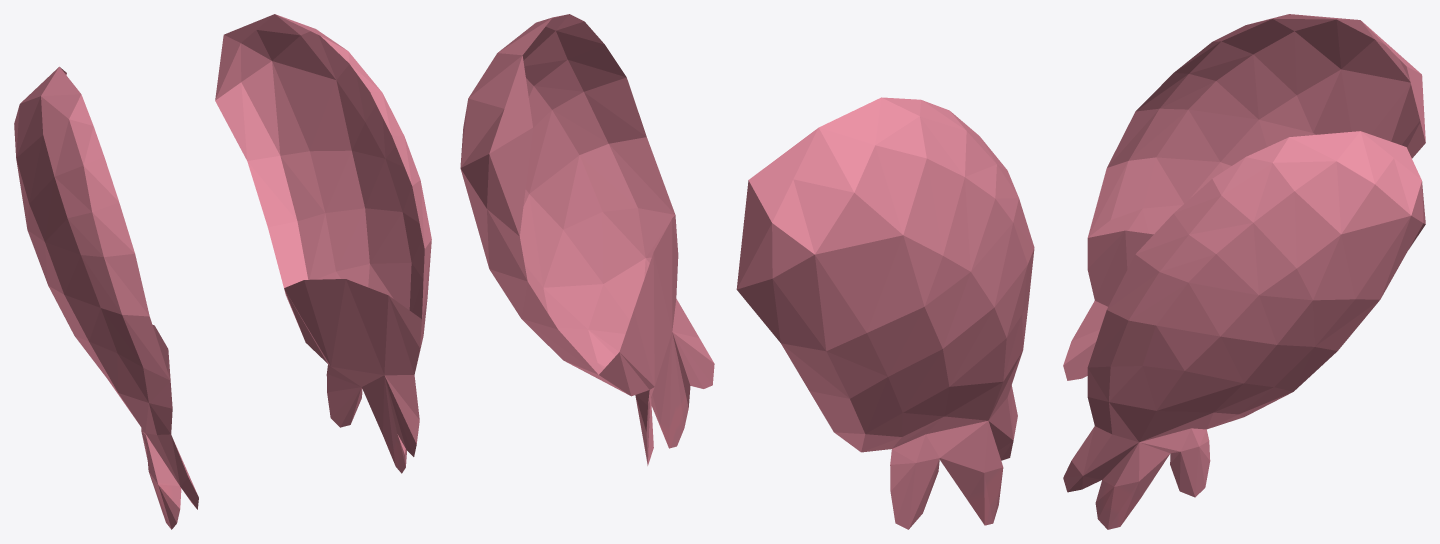
Rendered from BR_Chatot-Shiny01.obj.
3 renders of one model, left to right at view 1: azimuth 30°, elevation 25°; view 2: azimuth 150°, elevation 25°; view 3: azimuth 270°, elevation 25°, orthographic. The views are drawn at different scales.
Visible parts, largest first — view 1: perap; view 2: perap; view 3: perap.
Part boxes in pixels (x1=…): perap: x1=14, y1=14, x2=431, y2=529; perap: x1=460, y1=14, x2=1034, y2=529; perap: x1=1063, y1=14, x2=1425, y2=529.
Size of the model in its own units: 1.81 by 1.9 by 1.58.
1 material, 1 textured.
